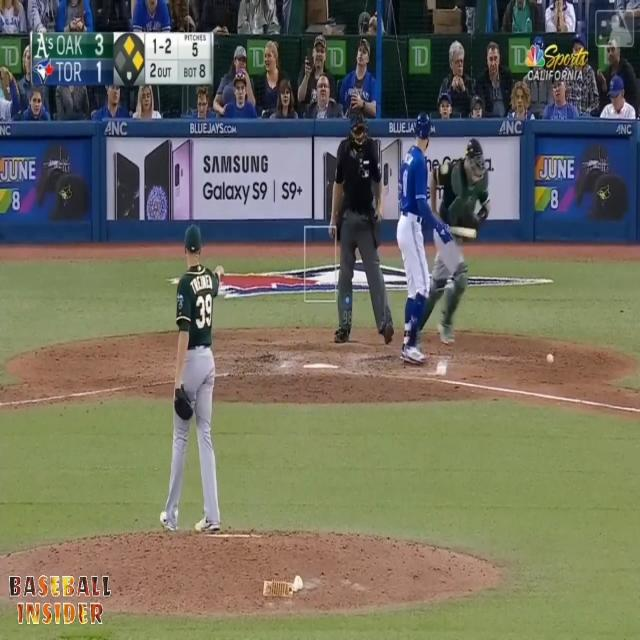baseball: (546, 350, 554, 366)
